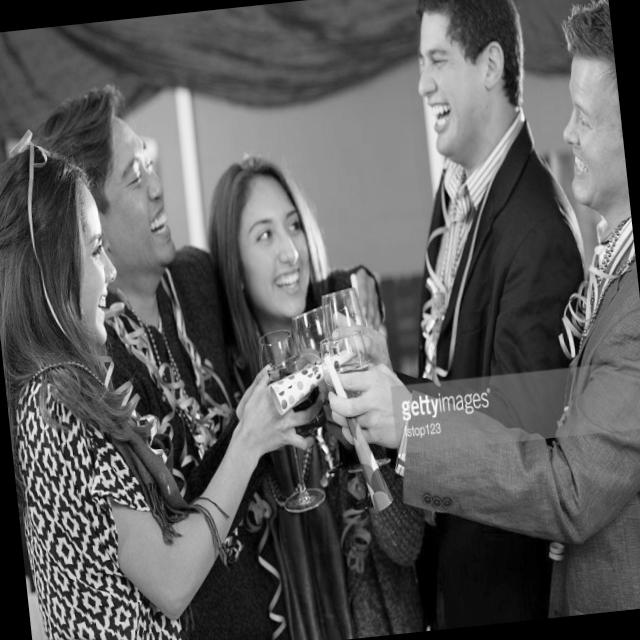person: (0, 39, 382, 640), (369, 0, 600, 383), (501, 0, 640, 369), (42, 104, 195, 341), (200, 144, 332, 342)
